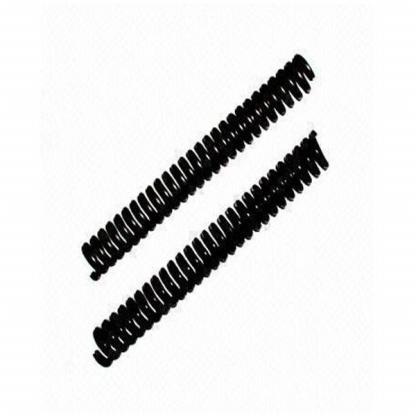FOD: (87, 124, 332, 369), (69, 49, 316, 288)
